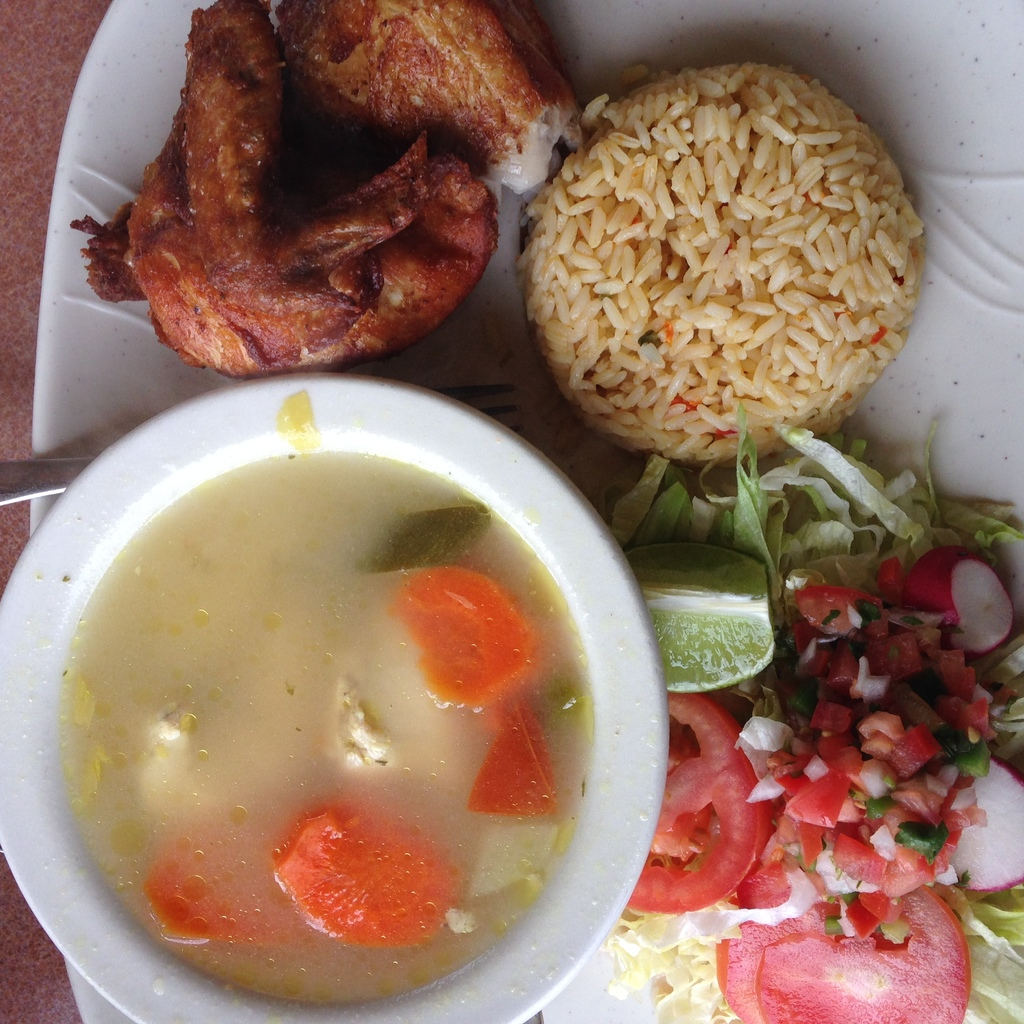salad: (600, 405, 1023, 1023)
